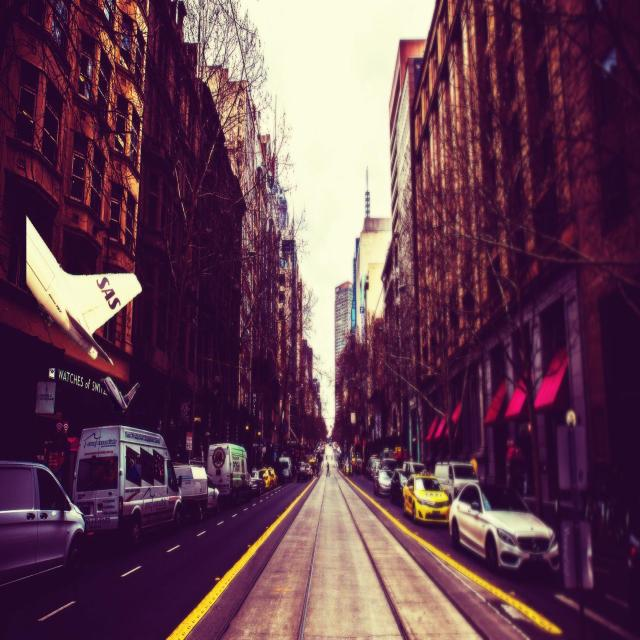airplane: (26, 214, 142, 366), (101, 370, 142, 414)
